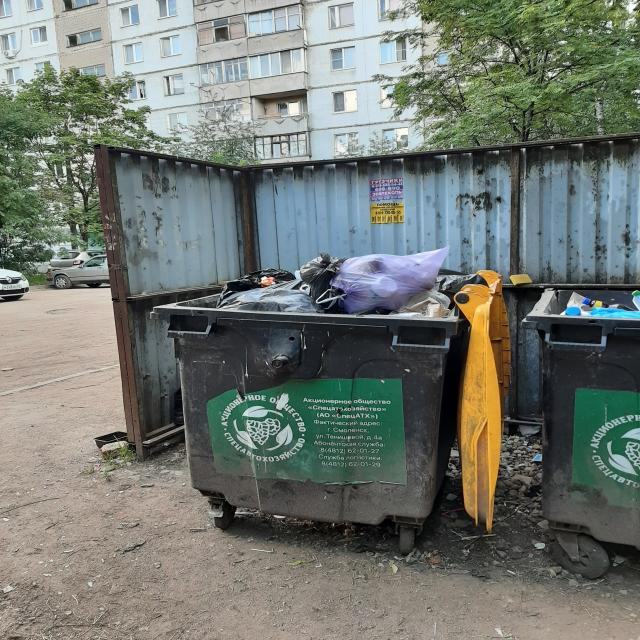bin: (162, 293, 456, 528), (525, 288, 640, 548)
trash: (224, 244, 481, 315), (563, 288, 640, 318)
